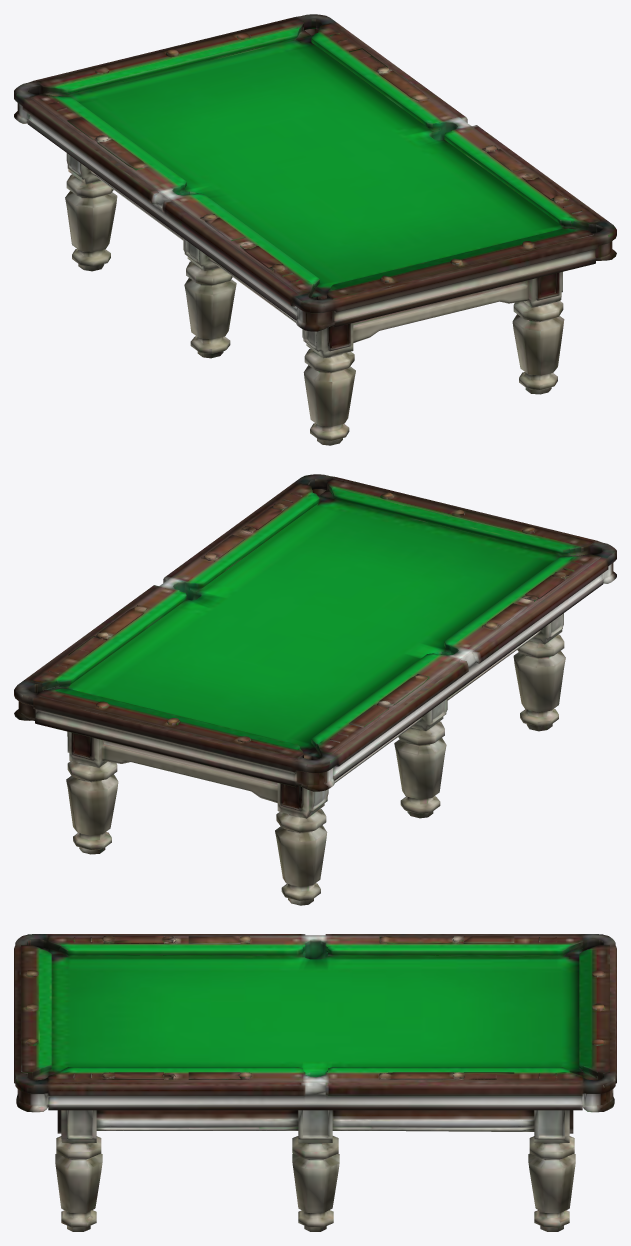
Rendered from table-9ft-src.glb.
3 views of the same model, one above another, from view 1: azimuth 30°, elevation 25°; view 2: azimuth 150°, elevation 25°; view 3: azimuth 270°, elevation 25° (orthographic).
Parts seen in each view (by area): view 1: tripo_node_e7147976-8c96-4336-a249-1cc11f3739dc; view 2: tripo_node_e7147976-8c96-4336-a249-1cc11f3739dc; view 3: tripo_node_e7147976-8c96-4336-a249-1cc11f3739dc.
Boxes of the visible parts, <box> form: tripo_node_e7147976-8c96-4336-a249-1cc11f3739dc: <box>14,14,616,445</box>; tripo_node_e7147976-8c96-4336-a249-1cc11f3739dc: <box>14,474,616,905</box>; tripo_node_e7147976-8c96-4336-a249-1cc11f3739dc: <box>14,934,616,1231</box>.
Size of the model in its own units: 0.5884 by 0.3047 by 0.9794.
1 material, 1 textured.
